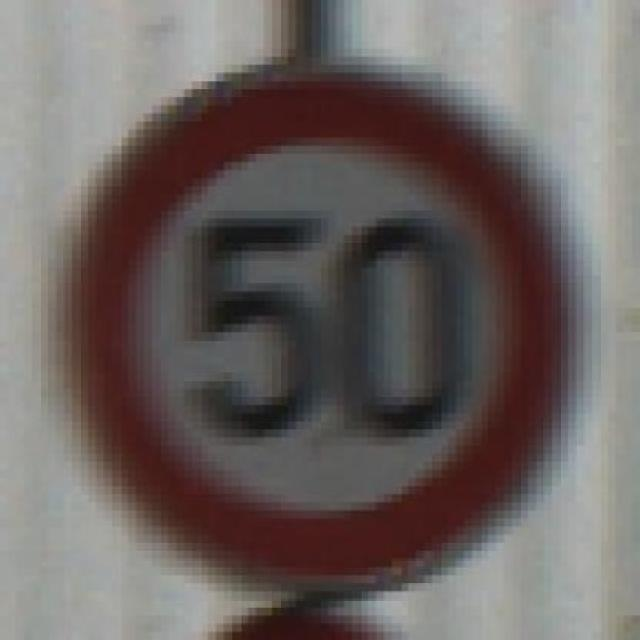forb_speed_over_50: (68, 72, 569, 573)
